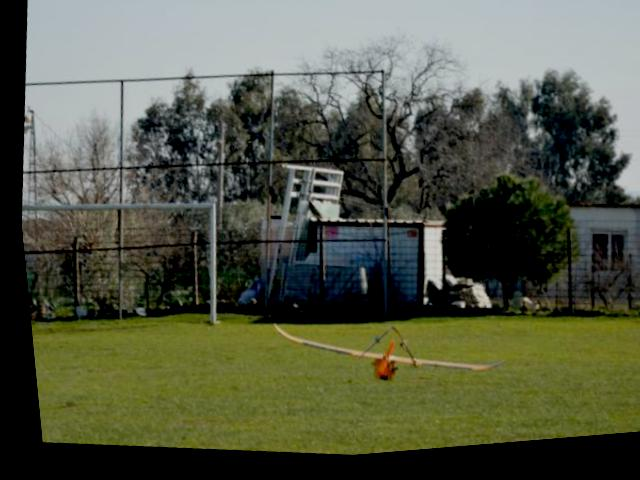iha: (252, 303, 504, 415)
